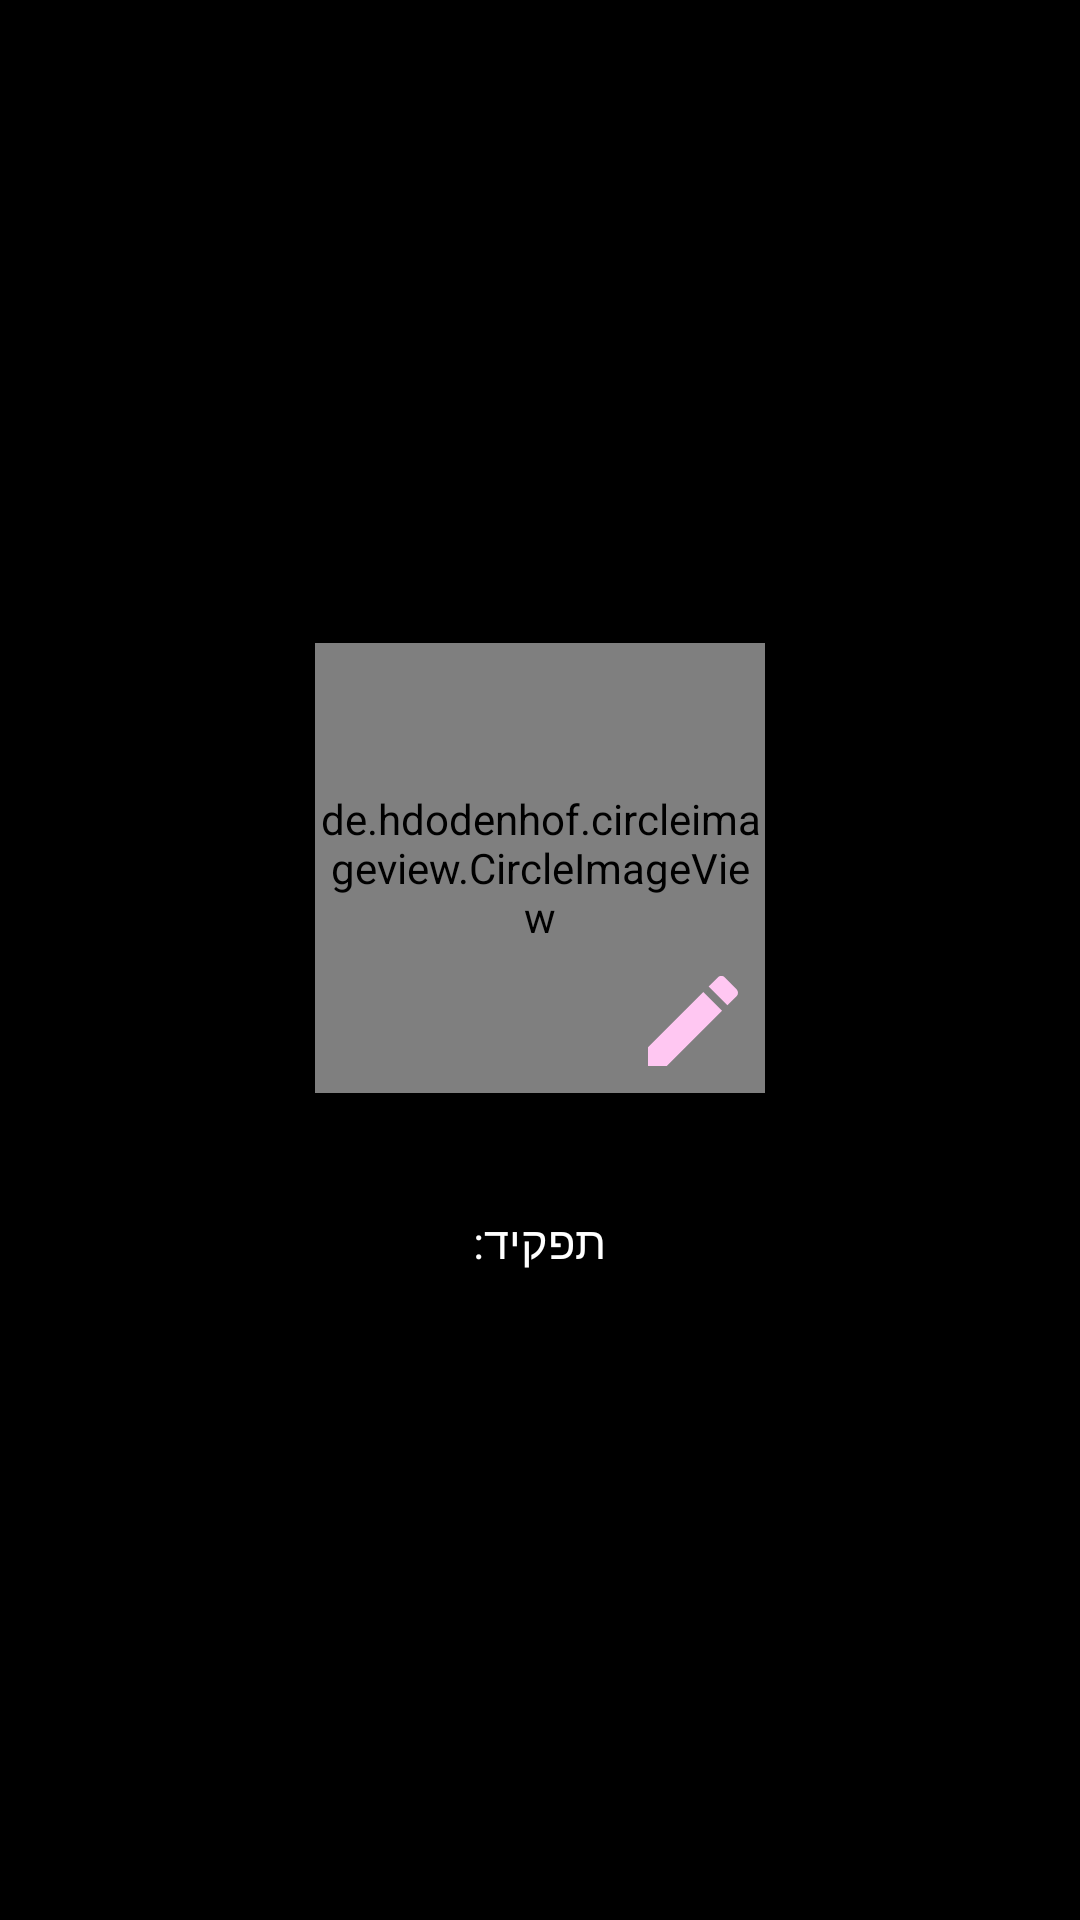

Screen size 1080x1920. Icon name, then its box in pixels as {"left": x1, "top": y1, "right": x2, "bottom": y2}:
edit: {"left": 648, "top": 976, "right": 738, "bottom": 1066}
